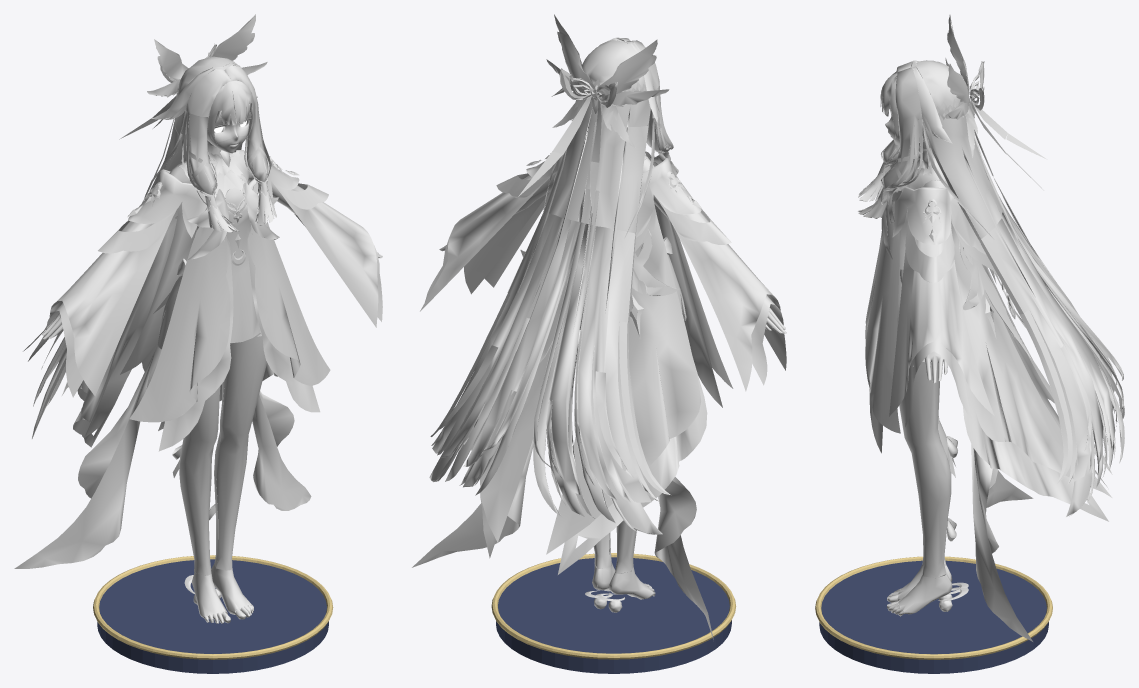
File: columbina_figurine.glb
The picture shows the model from 3 angles, left to right: view 1: azimuth 30°, elevation 25°; view 2: azimuth 150°, elevation 25°; view 3: azimuth 270°, elevation 25°; orthographic projection. The views are drawn at different scales.
Visible parts, largest first — view 1: ColumbinaFigurine; view 2: ColumbinaFigurine; view 3: ColumbinaFigurine.
Part boxes in pixels (x1,y1,x2,y2): ColumbinaFigurine: (14, 14, 382, 673); ColumbinaFigurine: (412, 14, 786, 673); ColumbinaFigurine: (815, 15, 1124, 673).
Size of the model in its own units: 1.02 by 1.69 by 0.8096.
